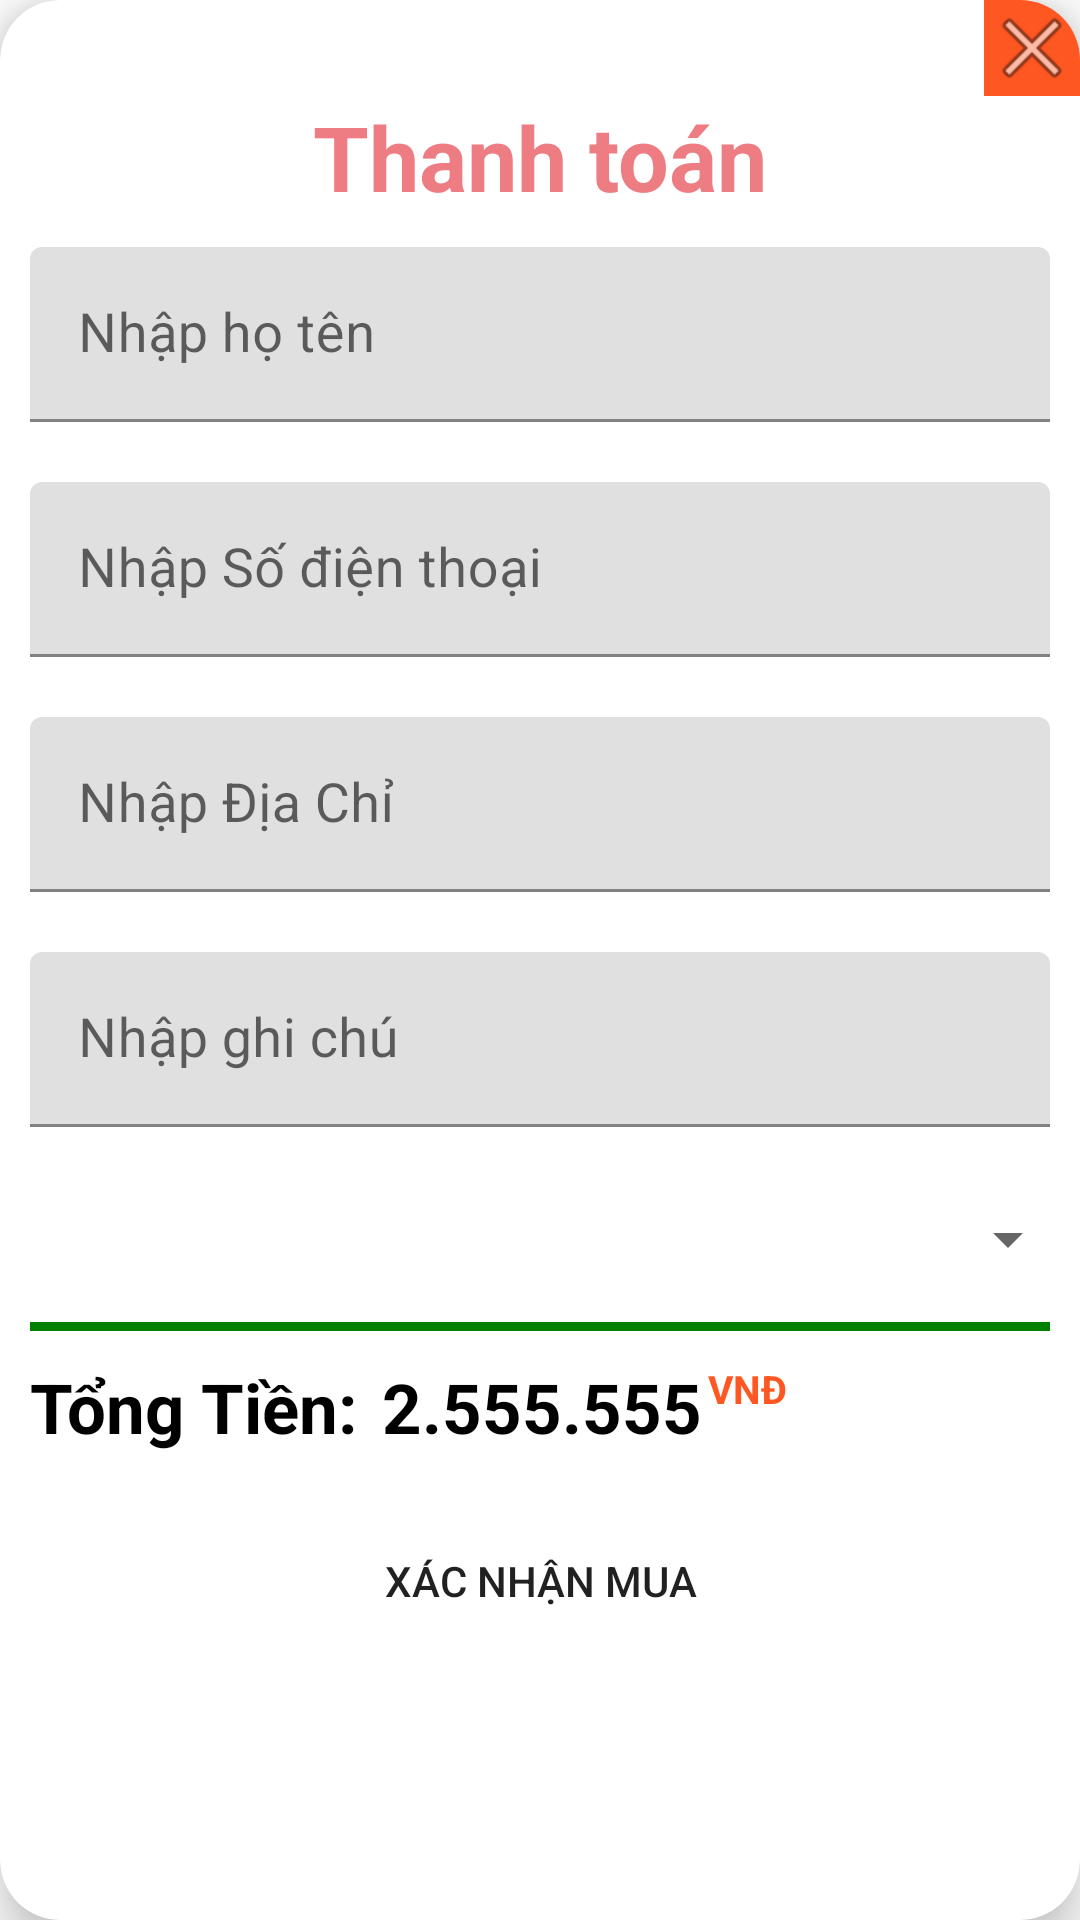

Screen size 1080x1920. Icon name, then its center in pixels as (x=x, y=y):
close clear cancel: (x=1032, y=48)
